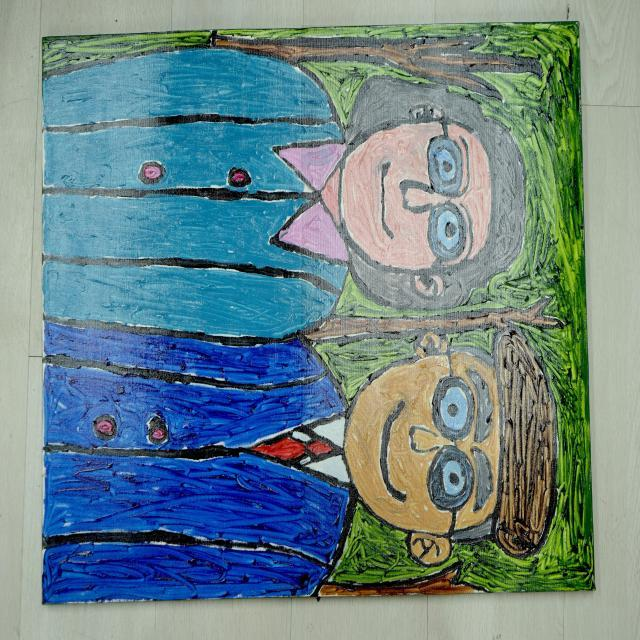painting: (43, 23, 593, 603)
